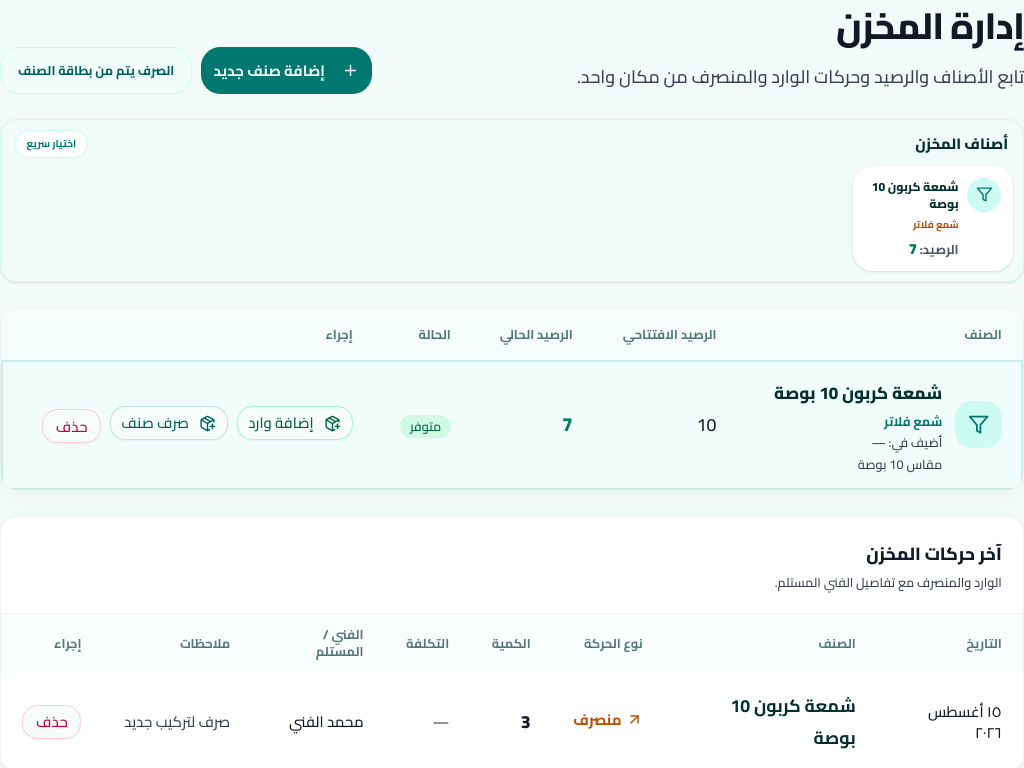
تفاصيل المنصرف في المخزون › يعرض حقول بيانات الصنف المفيدة داخل بطاقة الإضافة
This screenshot has width=1024, height=768.
Click the button "إضافة صنف جديد" at [286, 70], box [201,47,372,94]
(page scrolled)
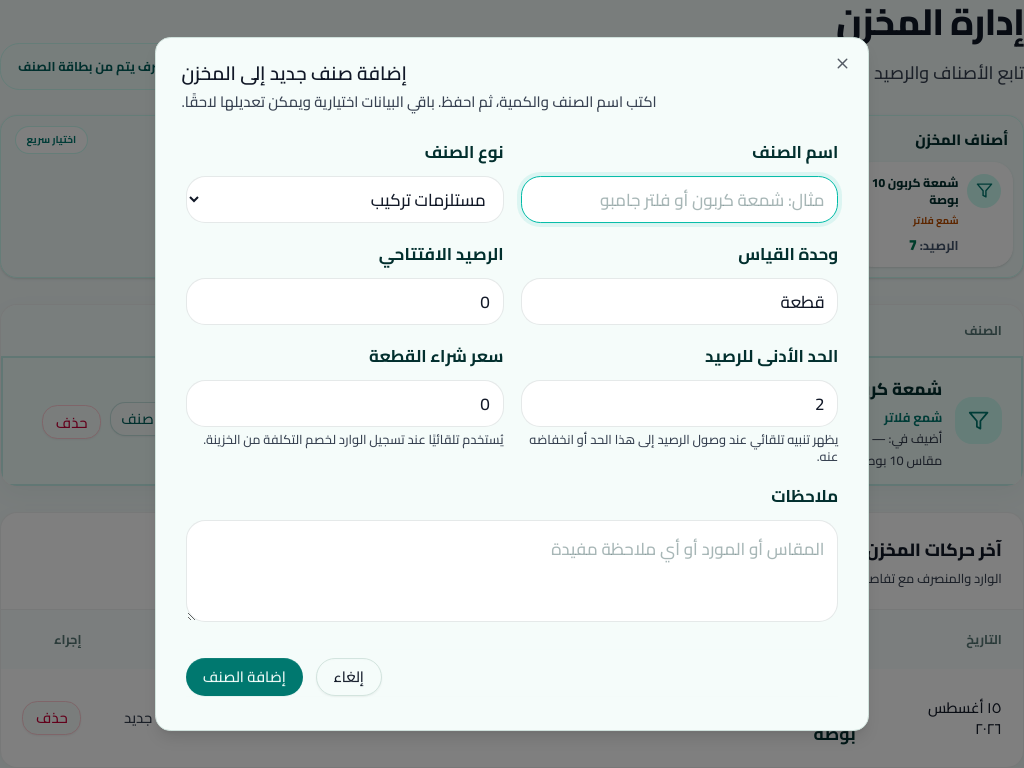
Result: the text "نوع الصنف" is shown at [424,136,504,168]
Result: the text "وحدة القياس" is shown at [738,238,838,270]
Result: the text "الحد الأدنى للرصيد" is shown at [705,340,838,372]
